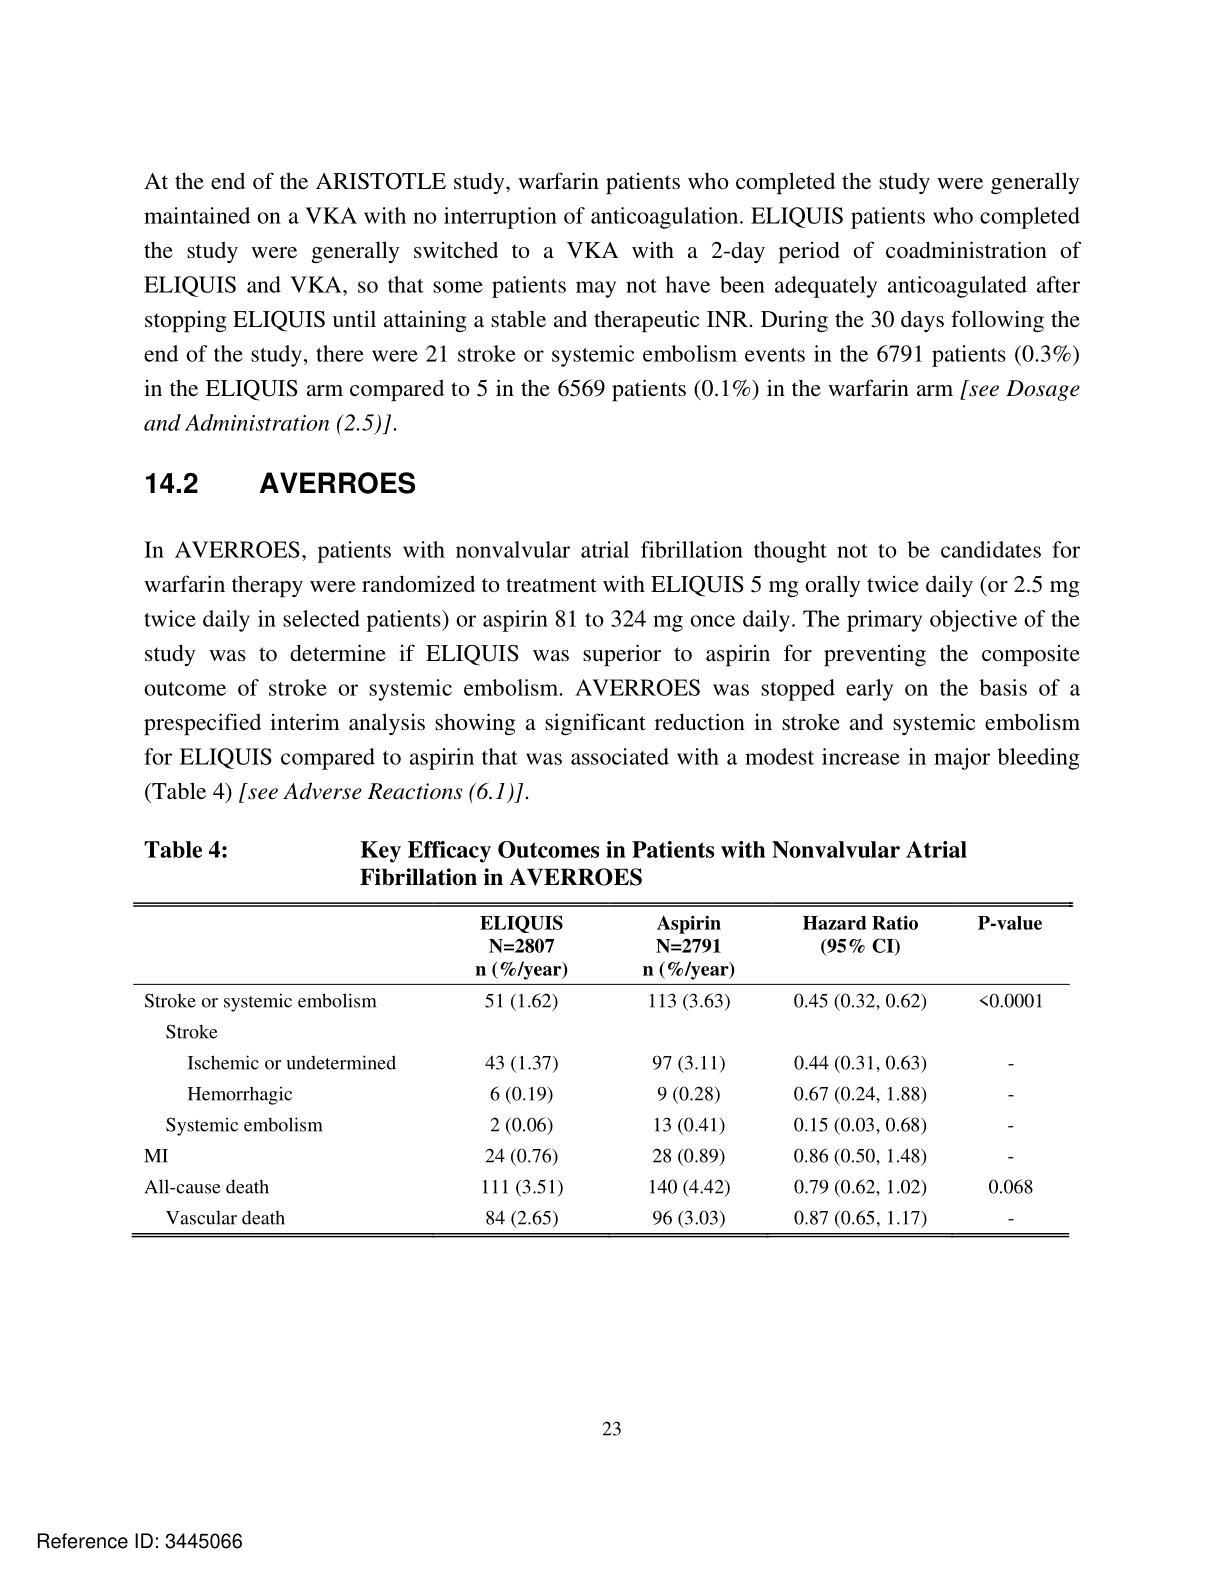partial_lined_merged_cells: (132, 900, 1075, 1239)
